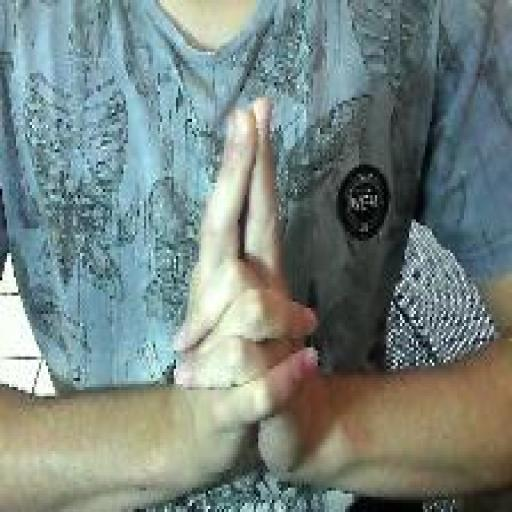Tora -tiger-: (170, 93, 324, 501)
